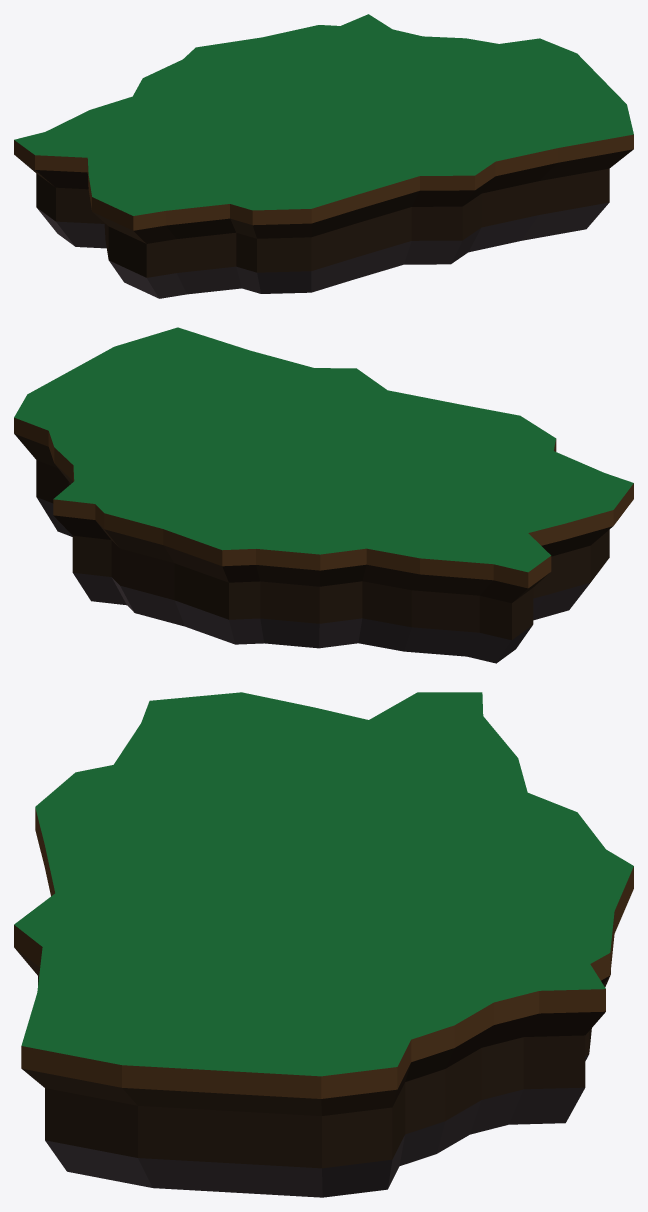
Rendered from ground1.glb.
The picture shows the model from 3 angles, top to bottom: view 1: azimuth 30°, elevation 25°; view 2: azimuth 150°, elevation 25°; view 3: azimuth 270°, elevation 25°; orthographic projection. The views are drawn at different scales.
Parts seen in each view (by area): view 1: Plane; view 2: Plane; view 3: Plane.
Boxes of the visible parts, bbox=[...] form: Plane: bbox=[14, 14, 633, 298]; Plane: bbox=[14, 327, 633, 663]; Plane: bbox=[14, 692, 633, 1197].
Size of the model in its own units: 32.15 by 5.87 by 21.93.
